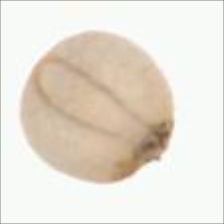L5: (32, 54, 149, 144), (115, 119, 175, 181)
L6: (16, 27, 176, 186)
